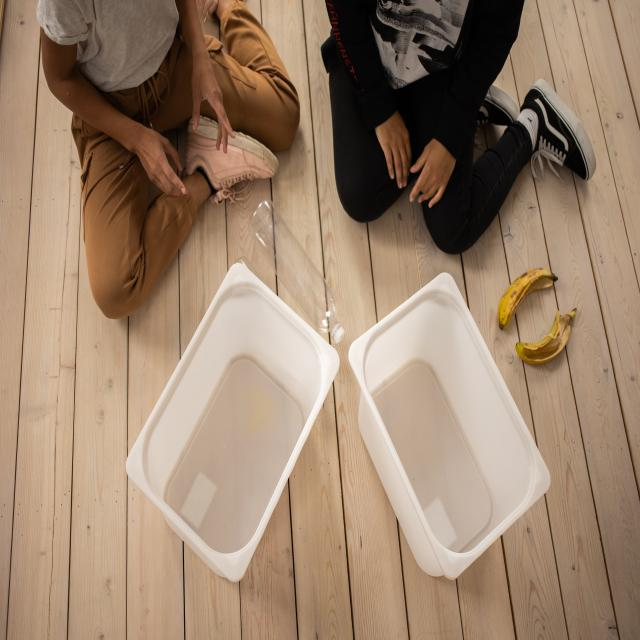plastic: (168, 302, 309, 563)
